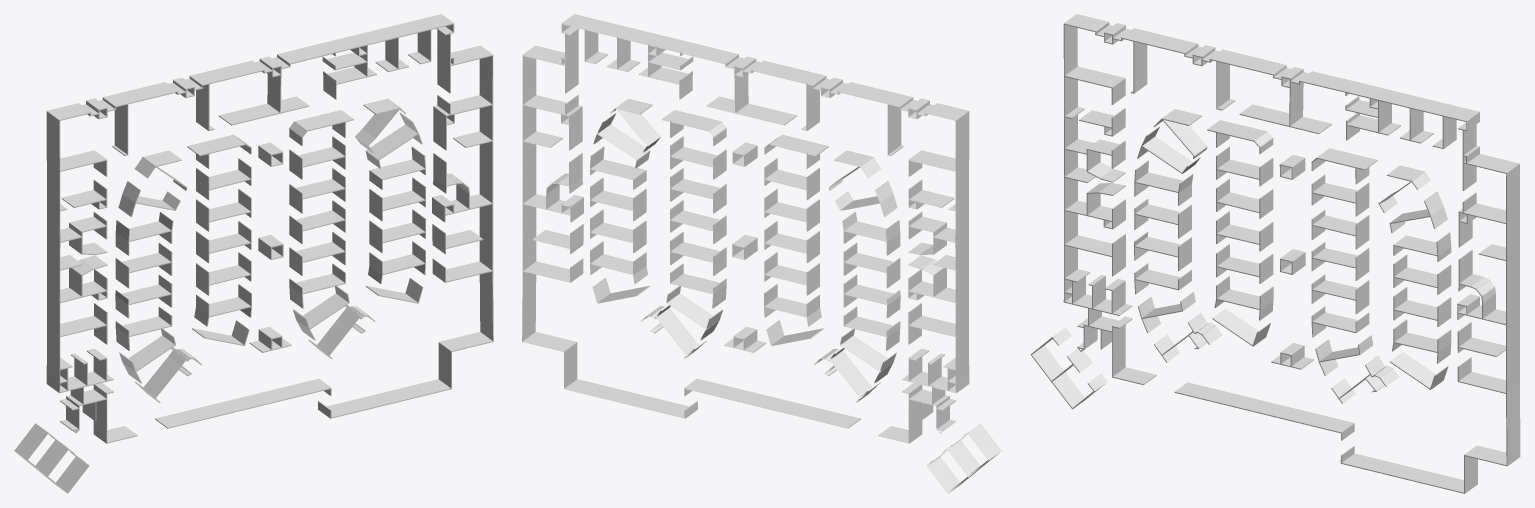
File: wall_1.obj
The picture shows the model from 3 angles, left to right: view 1: azimuth 30°, elevation 25°; view 2: azimuth 150°, elevation 25°; view 3: azimuth 330°, elevation 25°; orthographic projection. The views are drawn at different scales.
Parts seen in each view (by area): view 1: walls; view 2: walls; view 3: walls.
Boxes of the visible parts, bbox=[...] form: walls: bbox=[14, 14, 493, 493]; walls: bbox=[522, 14, 1001, 493]; walls: bbox=[1030, 14, 1520, 493].
Bounding box in the file's own units: 52.92 × 40.8 × 2.5.
